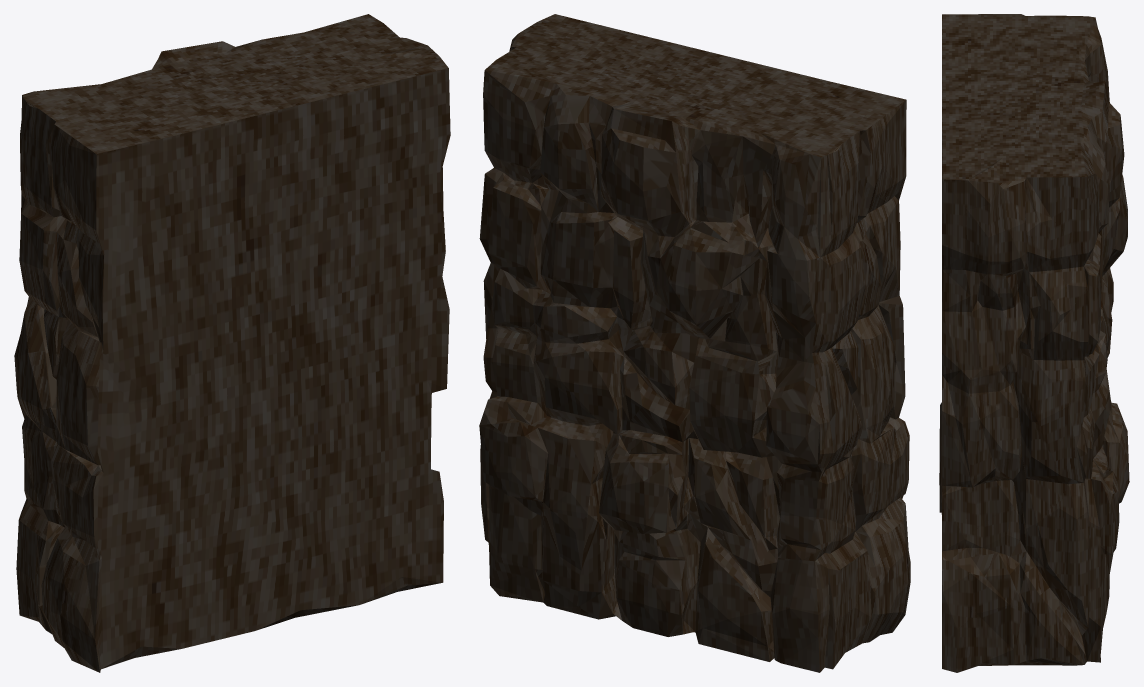
The model's file is cave-edge4.glb.
3 renders of one model, left to right at view 1: azimuth 30°, elevation 25°; view 2: azimuth 150°, elevation 25°; view 3: azimuth 270°, elevation 25°, orthographic. The views are drawn at different scales.
Visible parts, largest first — view 1: Cube.002; view 2: Cube.002; view 3: Cube.002.
Part boxes in pixels (bbox=[...]): Cube.002: bbox=[14, 14, 450, 672]; Cube.002: bbox=[479, 14, 910, 672]; Cube.002: bbox=[939, 14, 1129, 672].
Bounding box in the file's own units: 4.73 × 6.12 × 2.09.
Materials: 1 (1 with a texture image).
